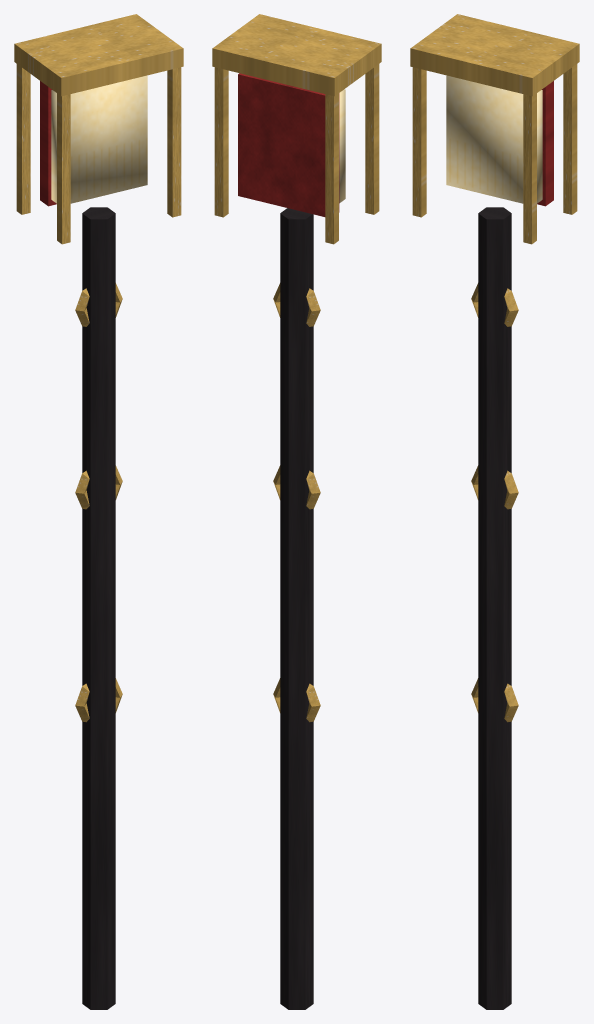
Rendered from rival_ledger_staff.obj.
3 renders of one model, left to right at view 1: azimuth 30°, elevation 25°; view 2: azimuth 150°, elevation 25°; view 3: azimuth 330°, elevation 25°, orthographic.
Parts seen in each view (by area): view 1: rival_ledger_staff; view 2: rival_ledger_staff; view 3: rival_ledger_staff.
Boxes of the visible parts, x1,y1,x2,y2 form: rival_ledger_staff: (14,14,183,1009); rival_ledger_staff: (212,14,381,1009); rival_ledger_staff: (410,14,579,1009).
Bounding box in the file's own units: 0.2626 × 1.97 × 0.175.
